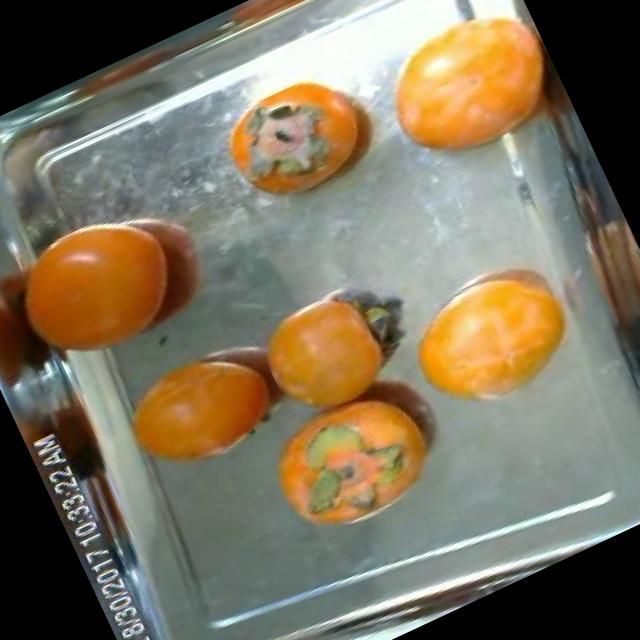Fruit: (373, 229, 611, 445), (0, 178, 219, 396), (346, 0, 580, 199), (242, 363, 464, 562), (98, 316, 306, 504), (198, 46, 406, 229)
